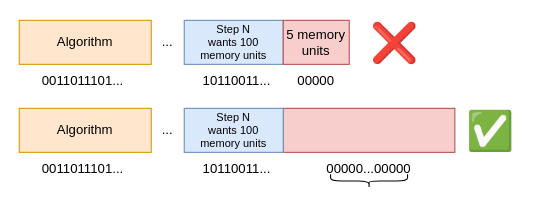
The diagram is 535 pixels wide and 216 high, and some of its shapes have lost their labels. The shapes that lost their labels are listed below. From the top down, each one's centre as x and y in pixels, then its label:
At (x=368, y=129): "100 memory units".
At (x=368, y=180): "100 bits".
